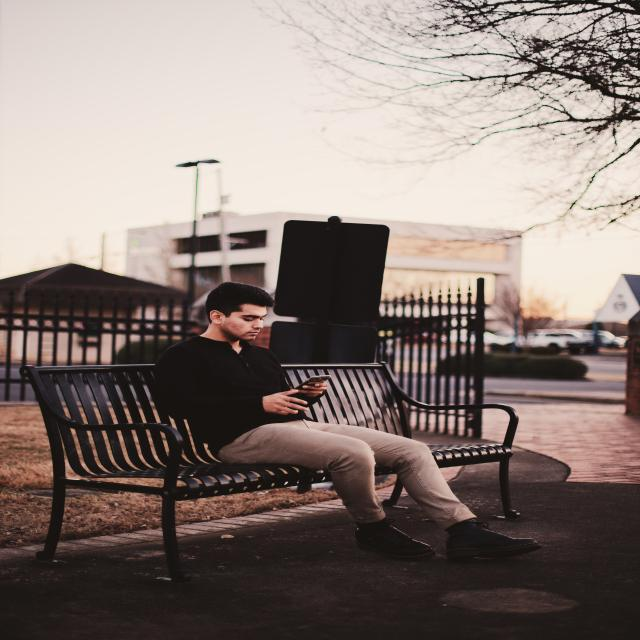nonfall: (163, 281, 534, 561)
